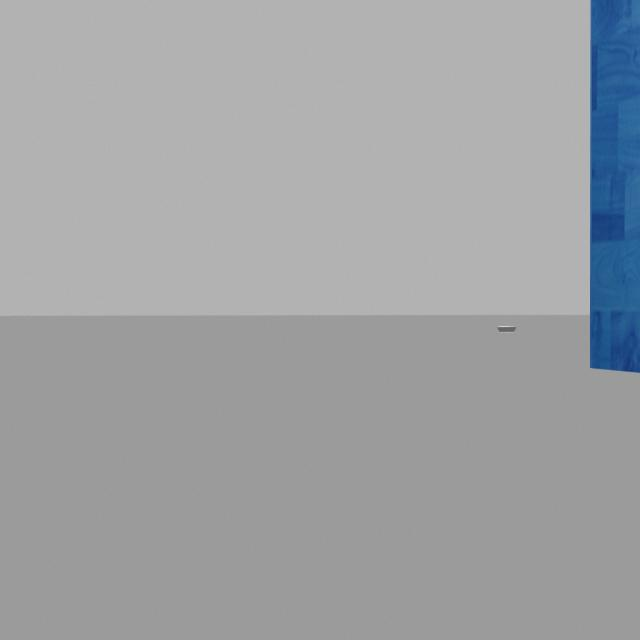bowl: (492, 314, 526, 341)
shelf: (572, 0, 640, 388)
